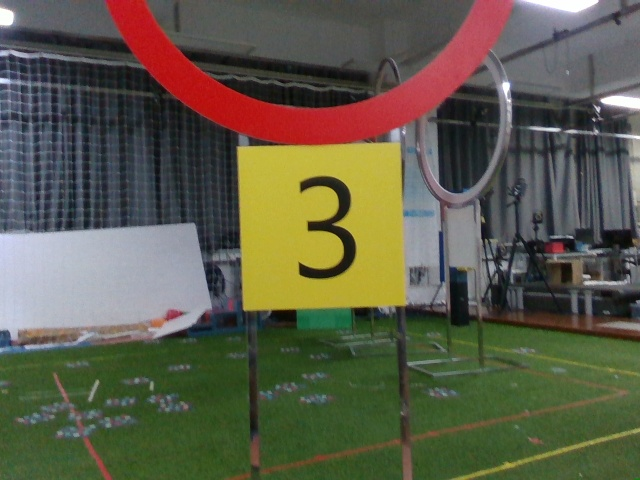target: (242, 146, 401, 300)
